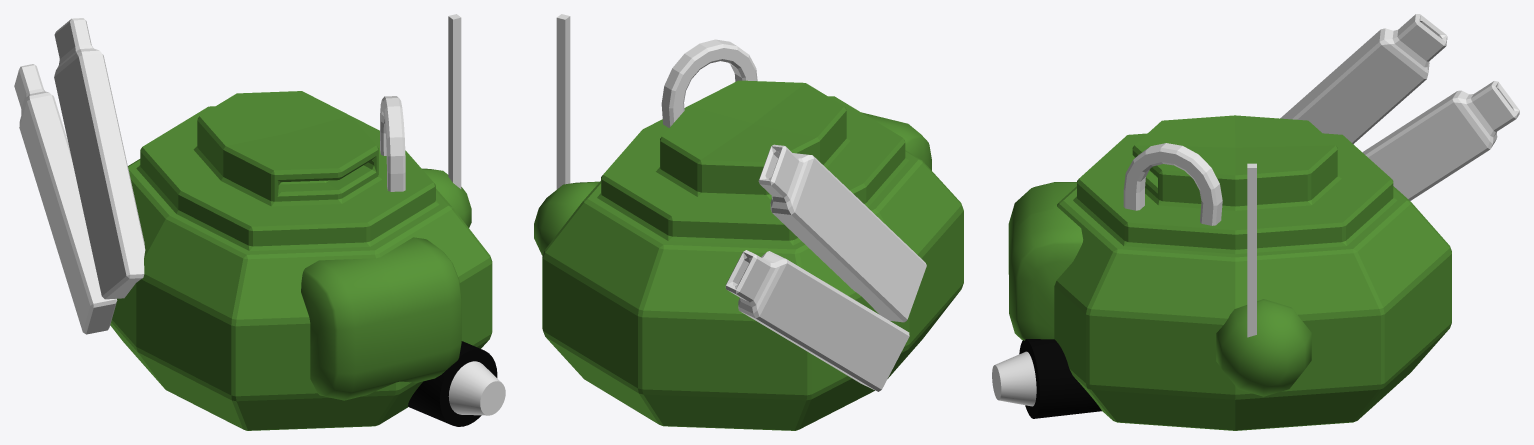
The model's file is head.fbx.
3 views of the same model, side by side, from view 1: azimuth 30°, elevation 25°; view 2: azimuth 150°, elevation 25°; view 3: azimuth 270°, elevation 25° (orthographic). The views are drawn at different scales.
Visible parts, largest first — view 1: head; view 2: head; view 3: head.
Part boxes in pixels (x1=…): head: x1=14, y1=14, x2=505, y2=430; head: x1=534, y1=14, x2=963, y2=430; head: x1=992, y1=14, x2=1519, y2=430.
Bounding box in the file's own units: 436 × 352 × 551.
